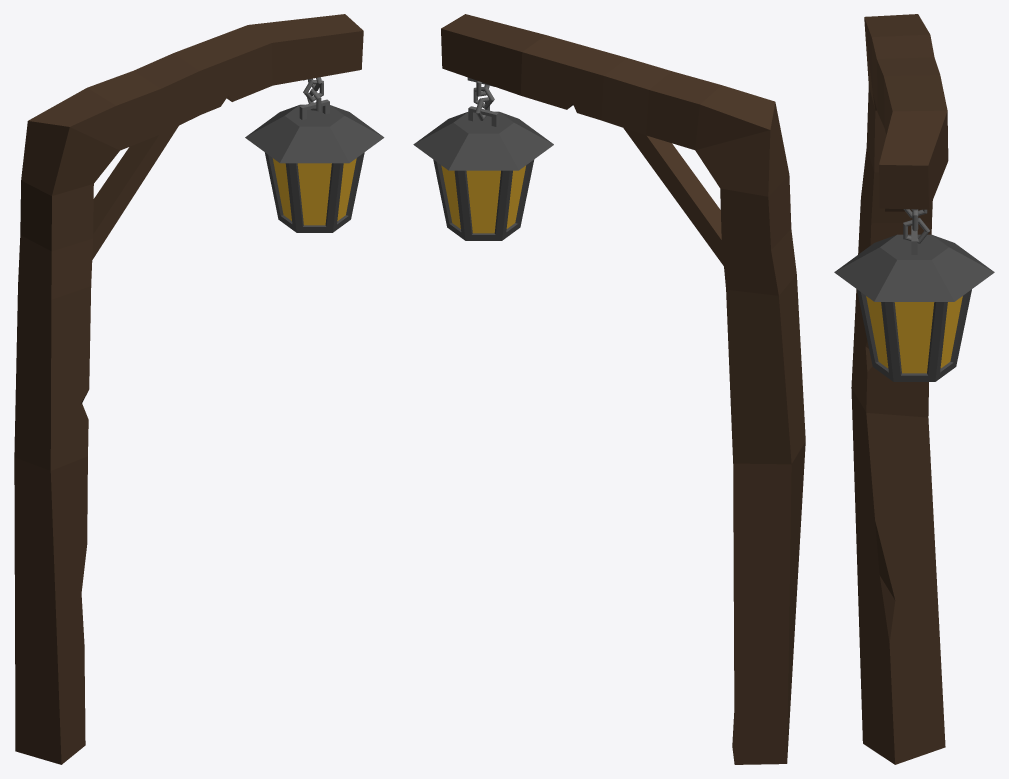
The model's file is lightern 1.fbx.
3 views of the same model, side by side, from view 1: azimuth 30°, elevation 25°; view 2: azimuth 150°, elevation 25°; view 3: azimuth 270°, elevation 25° (orthographic). The views are drawn at different scales.
Visible parts, largest first — view 1: Cube.001; view 2: Cube.001; view 3: Cube.001.
Boxes of the visible parts, x1,y1,x2,y2 form: Cube.001: [14, 14, 384, 764]; Cube.001: [413, 14, 805, 764]; Cube.001: [834, 14, 994, 764].
Bounding box in the file's own units: 575 × 1020 × 196.
